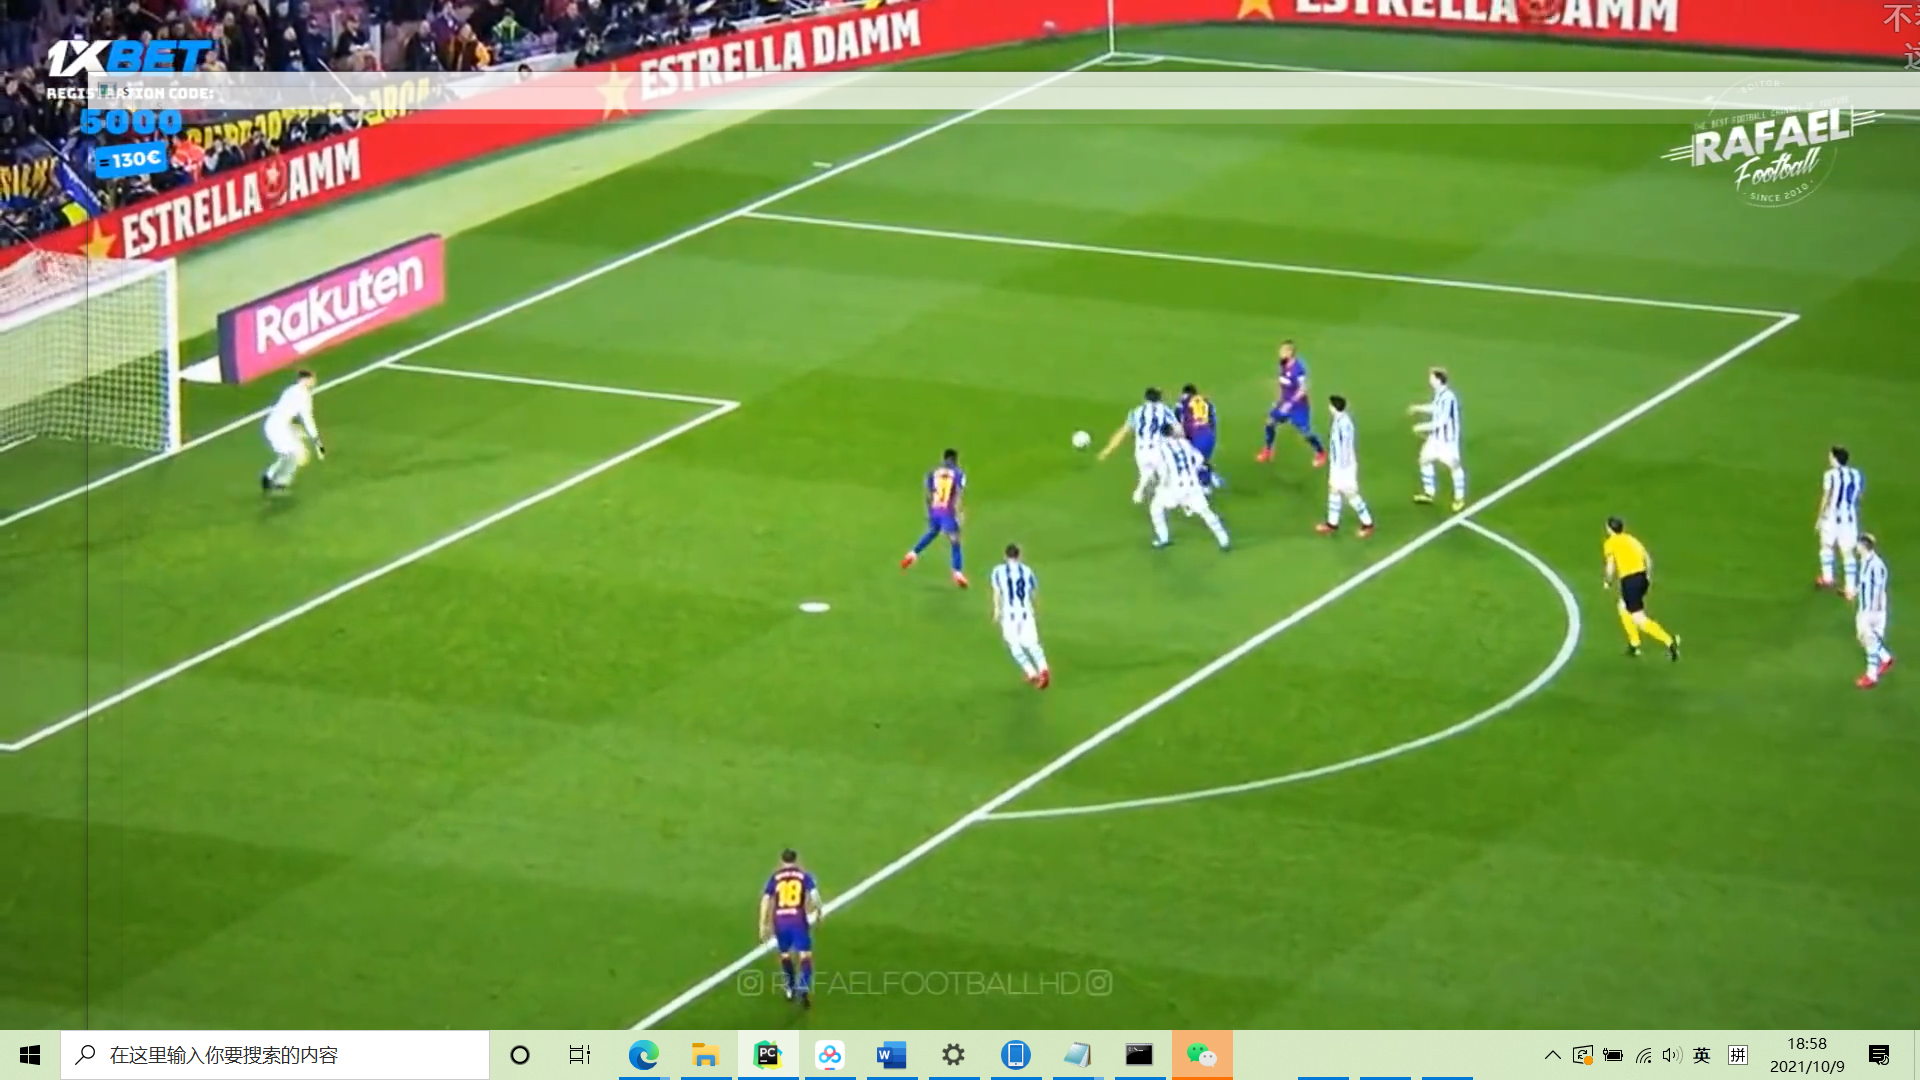ft: (1071, 430, 1092, 450)
